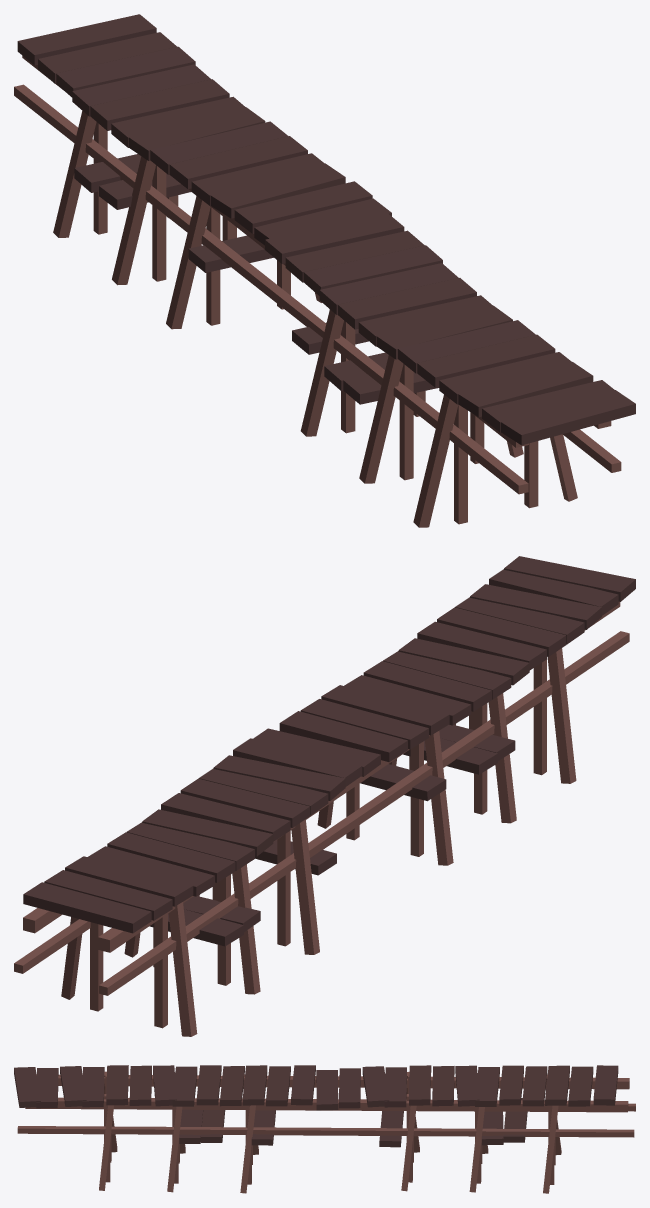
The model's file is LightRoseWoodBridgeMediumRailBridge1.fbx.
3 views of the same model, one above another, from view 1: azimuth 30°, elevation 25°; view 2: azimuth 150°, elevation 25°; view 3: azimuth 270°, elevation 25° (orthographic). The views are drawn at different scales.
Parts seen in each view (by area): view 1: LightRoseWoodBridgeMediumRailBridge1; view 2: LightRoseWoodBridgeMediumRailBridge1; view 3: LightRoseWoodBridgeMediumRailBridge1.
Boxes of the visible parts, bbox=[...] form: LightRoseWoodBridgeMediumRailBridge1: bbox=[14, 14, 635, 527]; LightRoseWoodBridgeMediumRailBridge1: bbox=[14, 556, 635, 1036]; LightRoseWoodBridgeMediumRailBridge1: bbox=[14, 1065, 635, 1193].
Bounding box in the file's own units: 610 × 552 × 3314.
